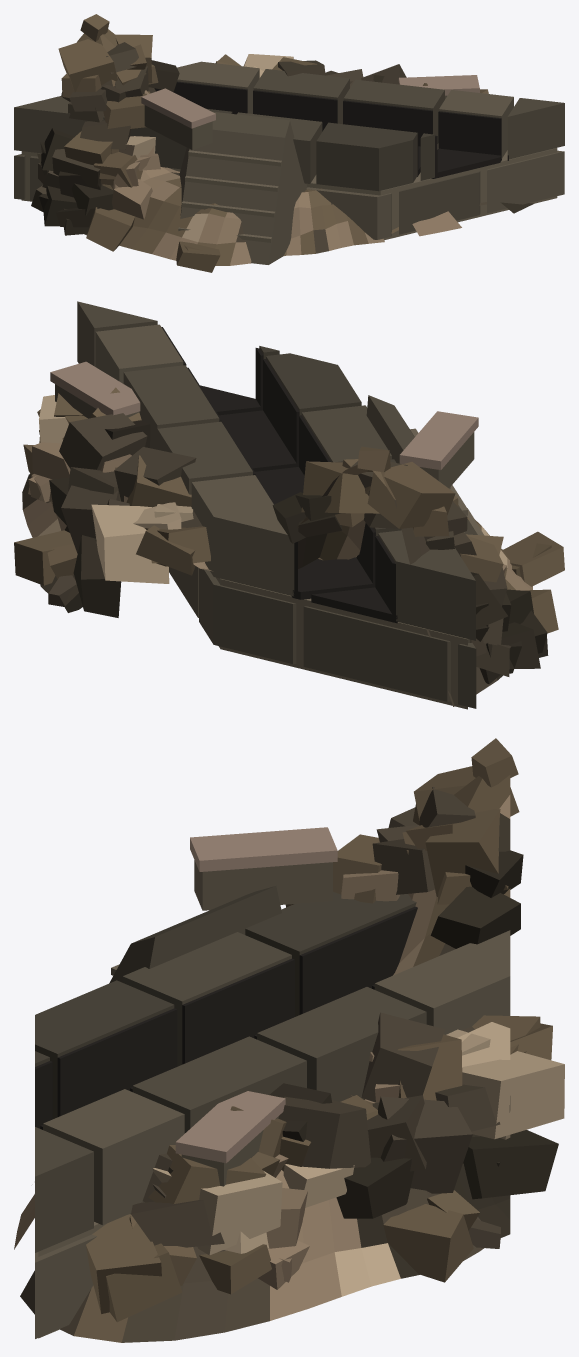
The model's file is AraWall06a.glb.
The picture shows the model from 3 angles, top to bottom: view 1: azimuth 30°, elevation 25°; view 2: azimuth 150°, elevation 25°; view 3: azimuth 270°, elevation 25°; orthographic projection. The views are drawn at different scales.
Visible parts, largest first — view 1: AraWall06a_mortar; view 2: AraWall06a_mortar; view 3: AraWall06a_mortar.
Boxes of the visible parts, x1,y1,x2,y2 form: AraWall06a_mortar: (14,14,564,272); AraWall06a_mortar: (14,301,564,709); AraWall06a_mortar: (14,738,564,1342).
Bounding box in the file's own units: 5.62 × 2.13 × 3.54.
